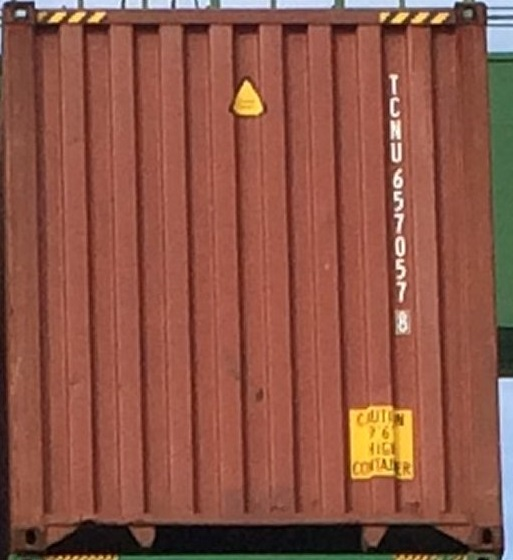container_no_door: (4, 2, 499, 552)
